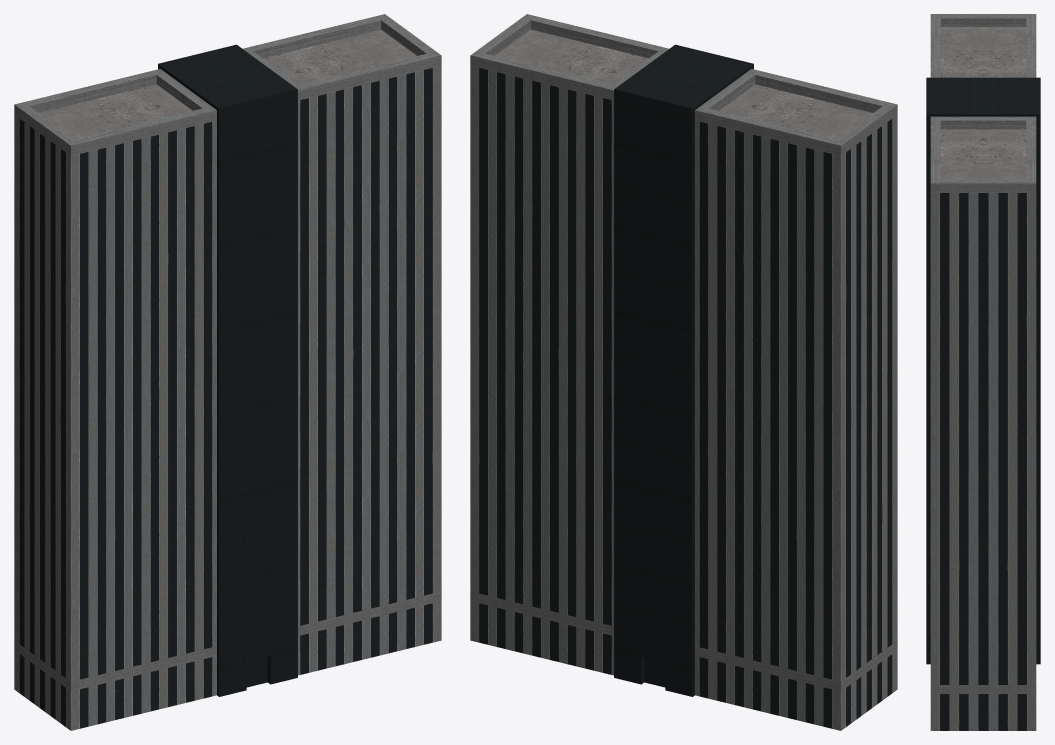
Rendered from building4_1.fbx.
3 renders of one model, left to right at view 1: azimuth 30°, elevation 25°; view 2: azimuth 150°, elevation 25°; view 3: azimuth 270°, elevation 25°, orthographic. The views are drawn at different scales.
Visible parts, largest first — view 1: Building_5A; view 2: Building_5A; view 3: Building_5A.
Boxes of the visible parts, <box> form: Building_5A: <box>14,14,441,730</box>; Building_5A: <box>470,14,897,730</box>; Building_5A: <box>926,14,1040,730</box>.
Bounding box in the file's own units: 27.89 × 42.31 × 7.98.
1 material, 1 textured.
